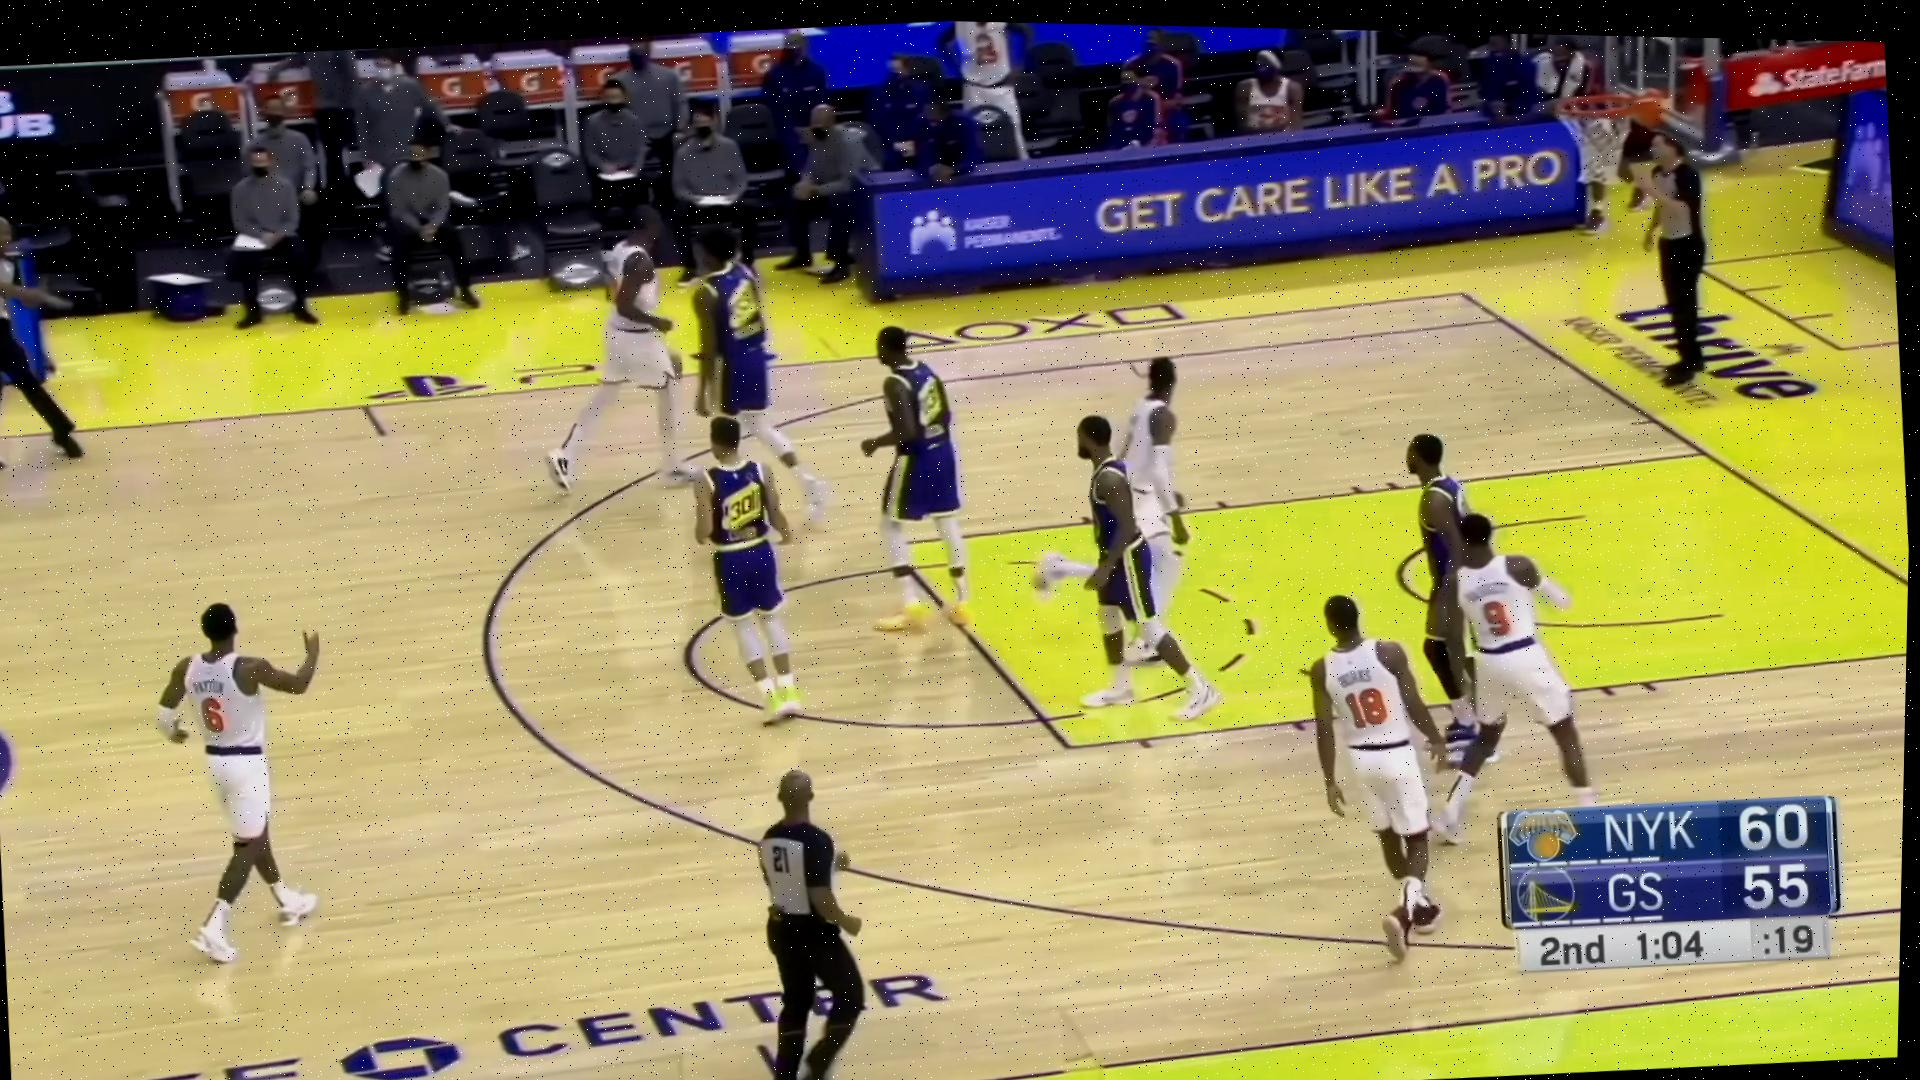no_foul: (998, 342, 1254, 749)
